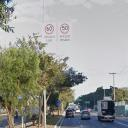speed_limit_50: (58, 23, 71, 43)
speed_limit_60: (42, 23, 57, 43)
